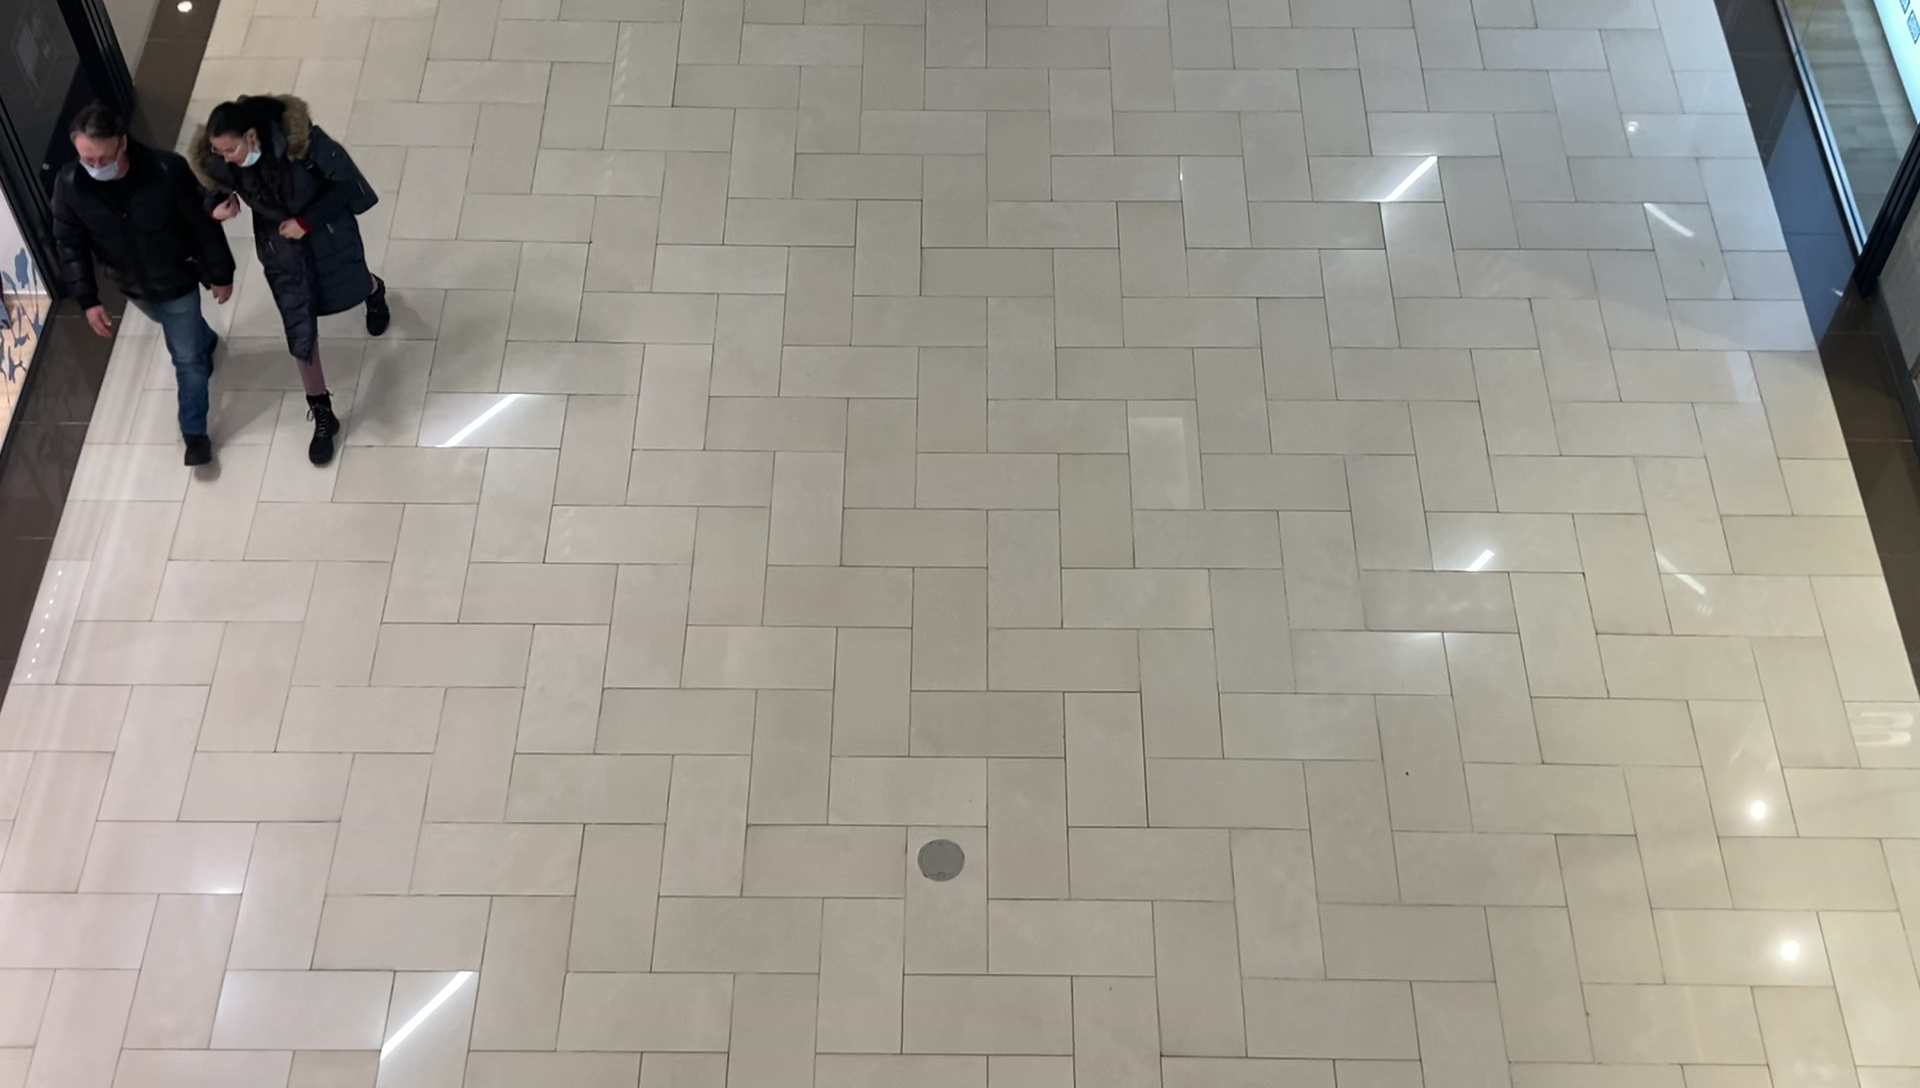person: (207, 98, 392, 466), (53, 106, 208, 467)
